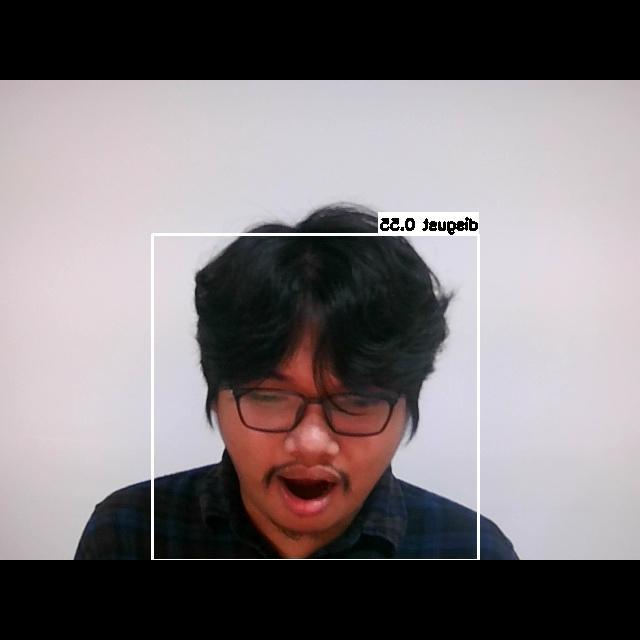Surprised: (216, 346, 409, 529)
